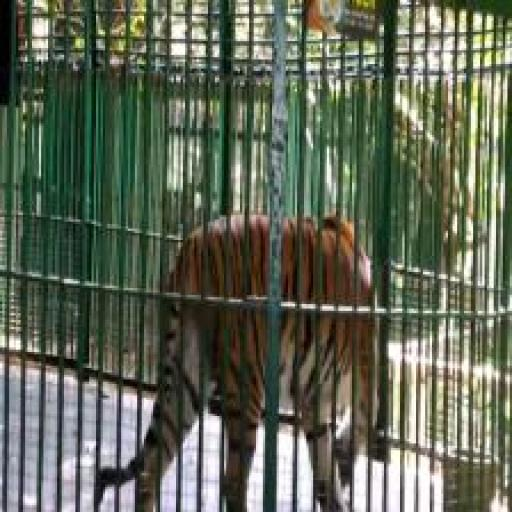Tiger: (82, 183, 405, 511)
